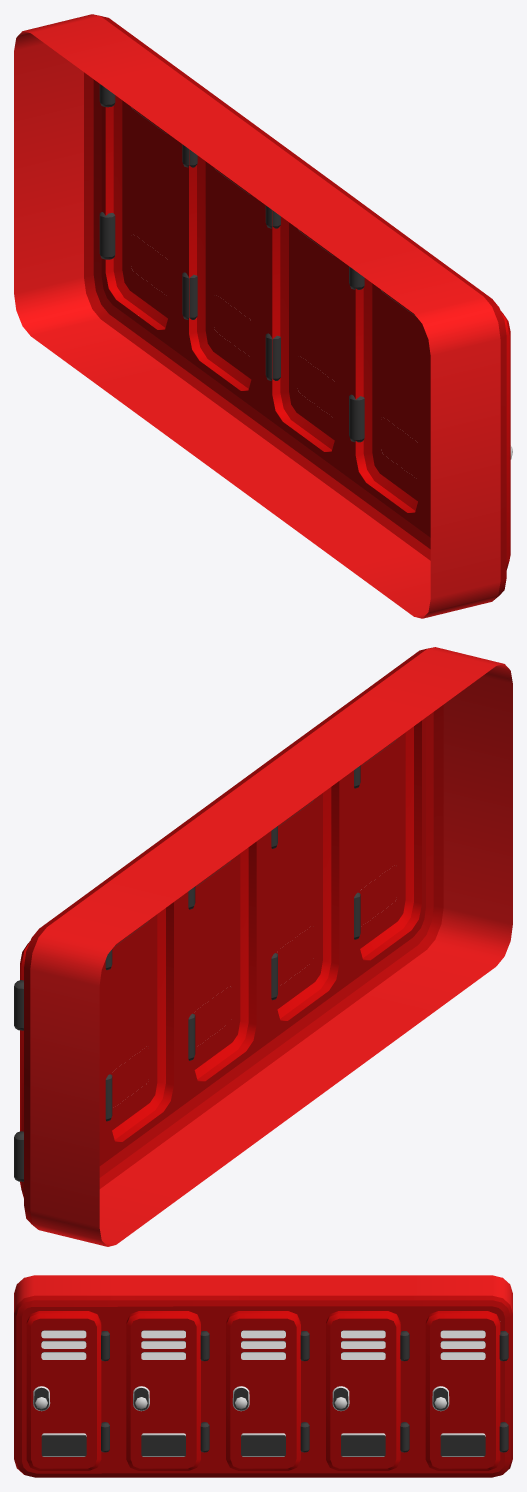
The model's file is Cabnet.fbx.
3 renders of one model, top to bottom at view 1: azimuth 30°, elevation 25°; view 2: azimuth 150°, elevation 25°; view 3: azimuth 270°, elevation 25°, orthographic. The views are drawn at different scales.
Parts seen in each view (by area): view 1: Cabnet; view 2: Cabnet; view 3: Cabnet.
Part boxes in pixels (<box>): Cabnet: <box>14,14,512,618</box>; Cabnet: <box>14,647,512,1246</box>; Cabnet: <box>14,1275,512,1477</box>.
Size of the model in its own units: 4.88 by 13.85 by 34.51.
